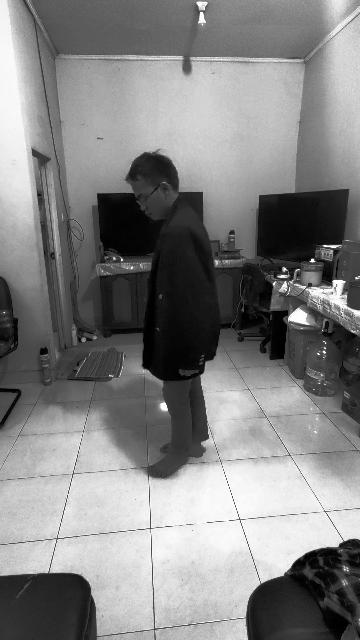berdiri: (122, 146, 214, 482)
